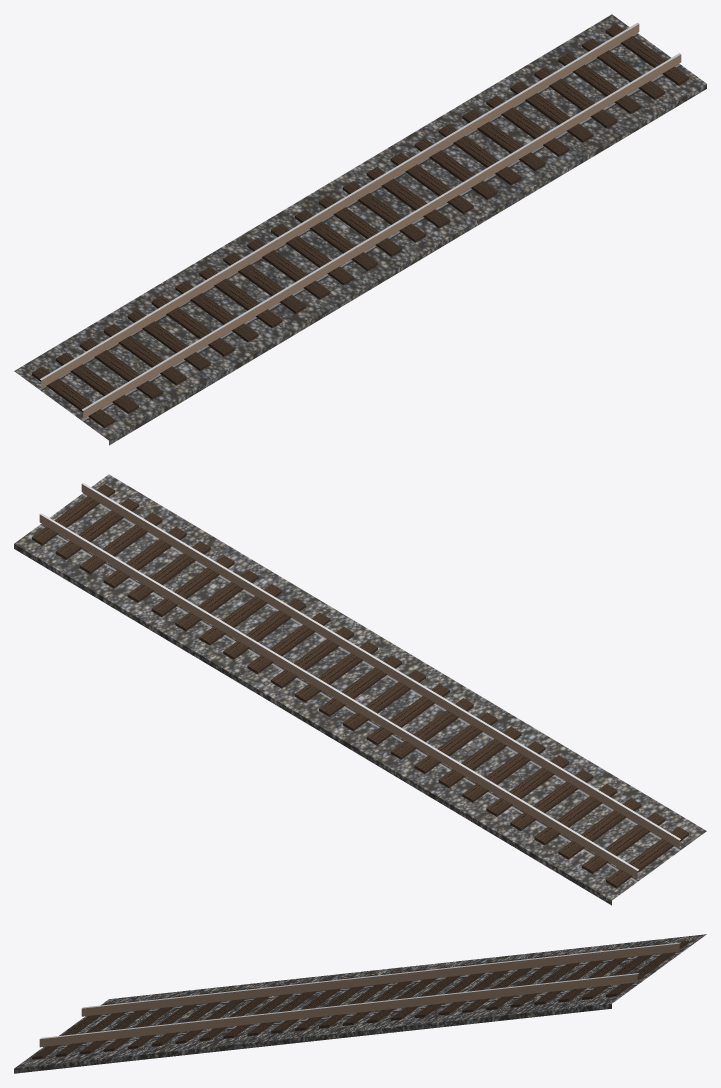
The model's file is kolej_svah_oci_drevo_siroka.glb.
The picture shows the model from 3 angles, top to bottom: view 1: azimuth 30°, elevation 25°; view 2: azimuth 150°, elevation 25°; view 3: azimuth 330°, elevation 25°; orthographic projection.
Visible parts, largest first — view 1: kolej_svah_oci_drevo_siroka; view 2: kolej_svah_oci_drevo_siroka; view 3: kolej_svah_oci_drevo_siroka.
Boxes of the visible parts, x1,y1,x2,y2 form: kolej_svah_oci_drevo_siroka: (14, 14, 706, 445); kolej_svah_oci_drevo_siroka: (14, 474, 706, 905); kolej_svah_oci_drevo_siroka: (14, 934, 706, 1073).
Size of the model in its own units: 14.84 by 5.37 by 4.08.
Materials: 4 (2 with a texture image).
